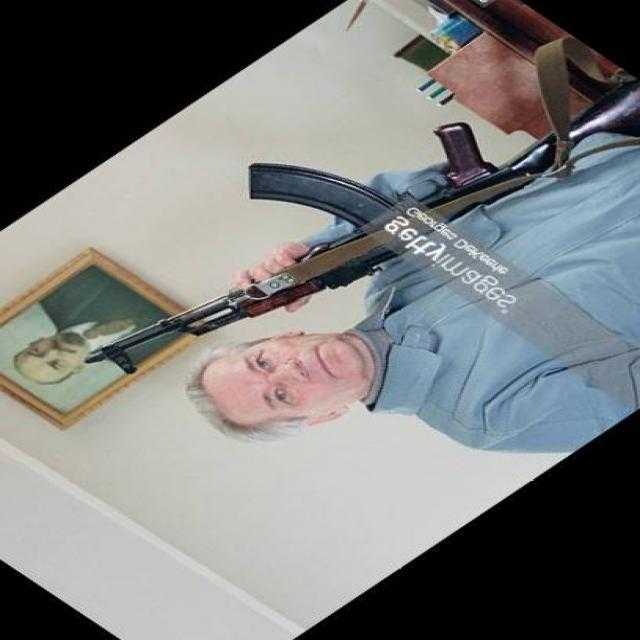weapon: (80, 79, 640, 376)
